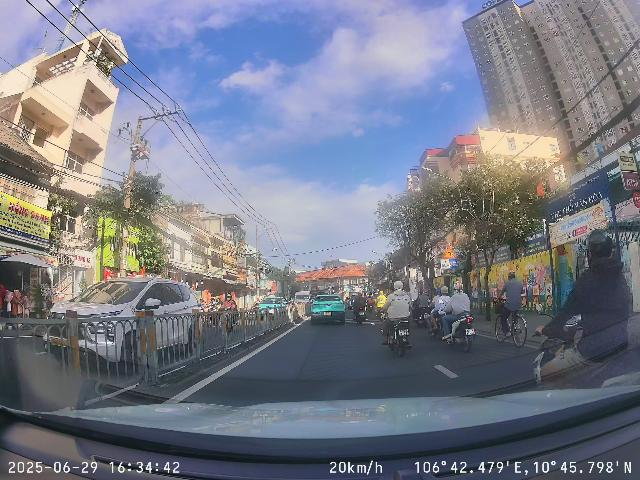201-cho-ngoat-nguy-hiem: (443, 246, 456, 258)
